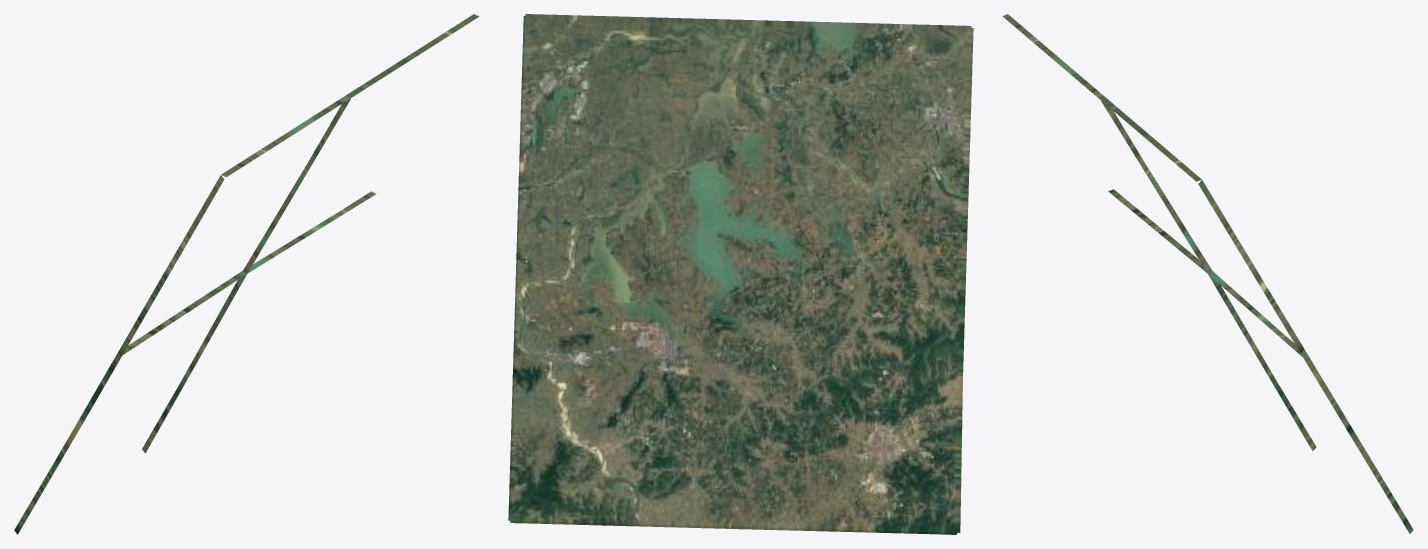
3 views of the same model, side by side, from view 1: azimuth 30°, elevation 25°; view 2: azimuth 150°, elevation 25°; view 3: azimuth 270°, elevation 25° (orthographic). The views are drawn at different scales.
Size of the model in its own units: 79413 by 69533 by 65008.
1 material, 1 textured.
